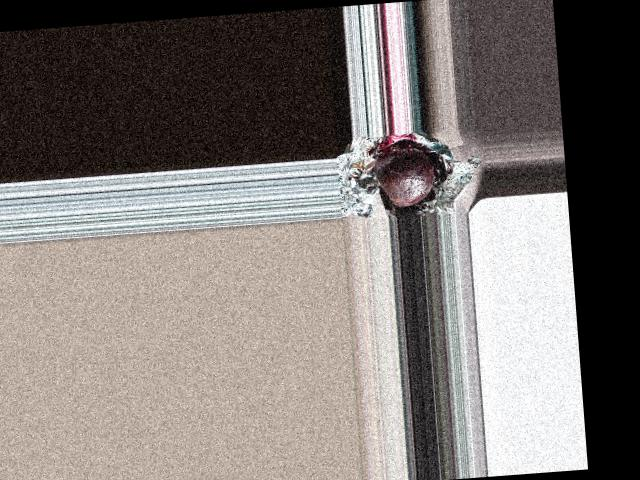beet: (372, 148, 437, 208)
